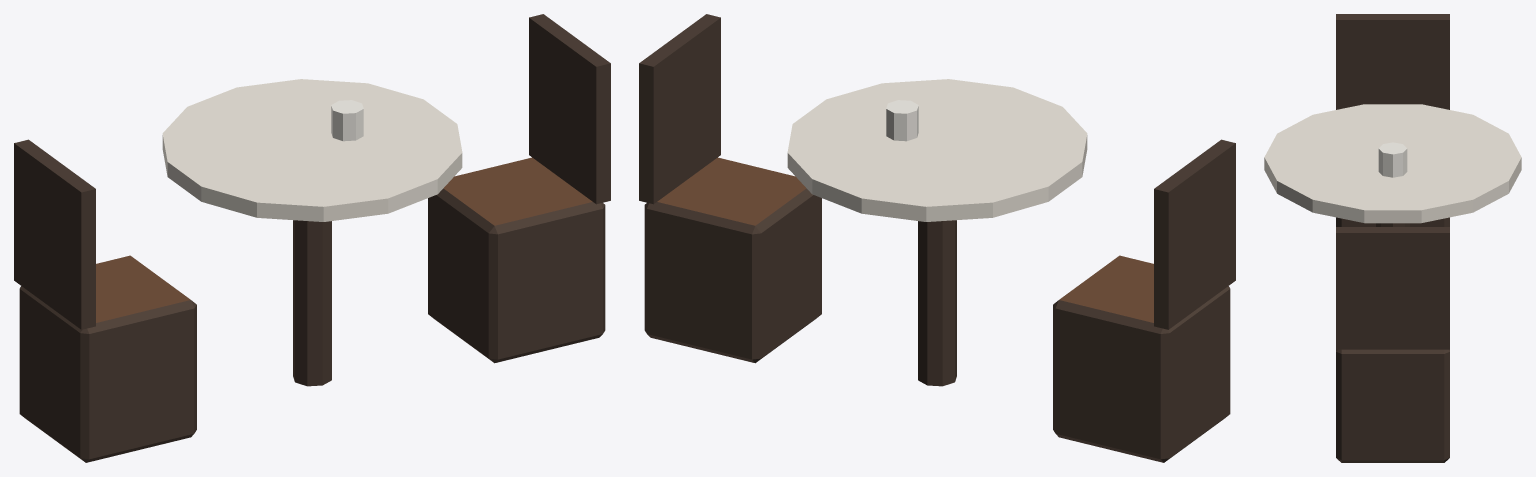
Rendered from table.fbx.
3 views of the same model, side by side, from view 1: azimuth 30°, elevation 25°; view 2: azimuth 150°, elevation 25°; view 3: azimuth 270°, elevation 25° (orthographic). The views are drawn at different scales.
Visible parts, largest first — view 1: table; view 2: table; view 3: table.
Boxes of the visible parts, x1=… form: table: x1=14, y1=14, x2=610, y2=462; table: x1=639, y1=14, x2=1235, y2=462; table: x1=1264, y1=14, x2=1521, y2=462.
Bounding box in the file's own units: 1.81 × 0.9 × 0.9.
